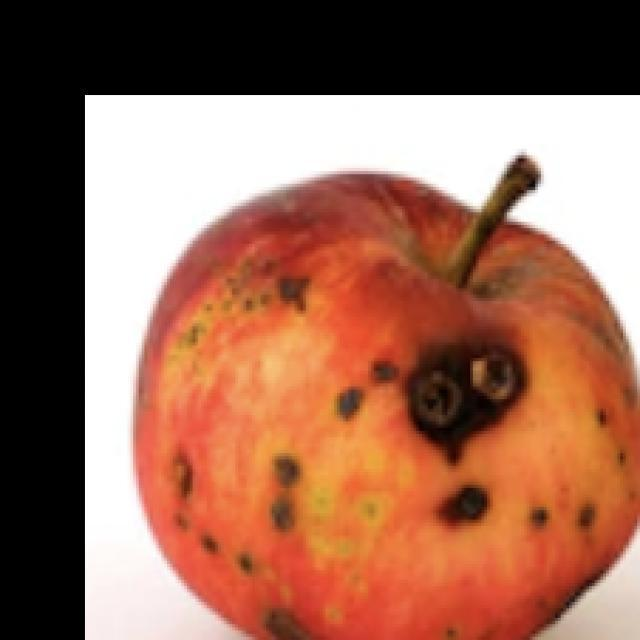Rotten: (140, 163, 640, 640)
